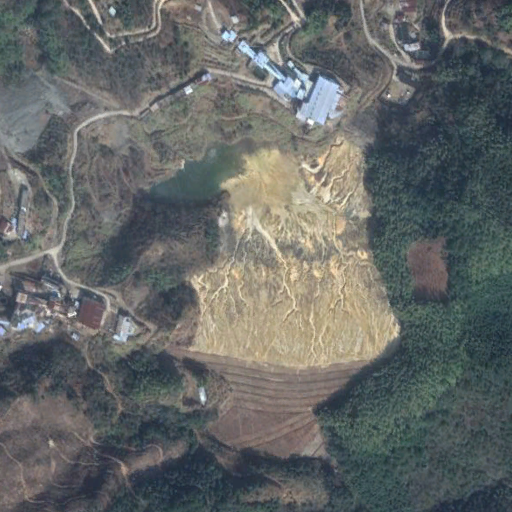tp: (135, 104, 404, 475)
